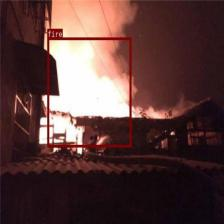fire: (47, 37, 131, 147)
